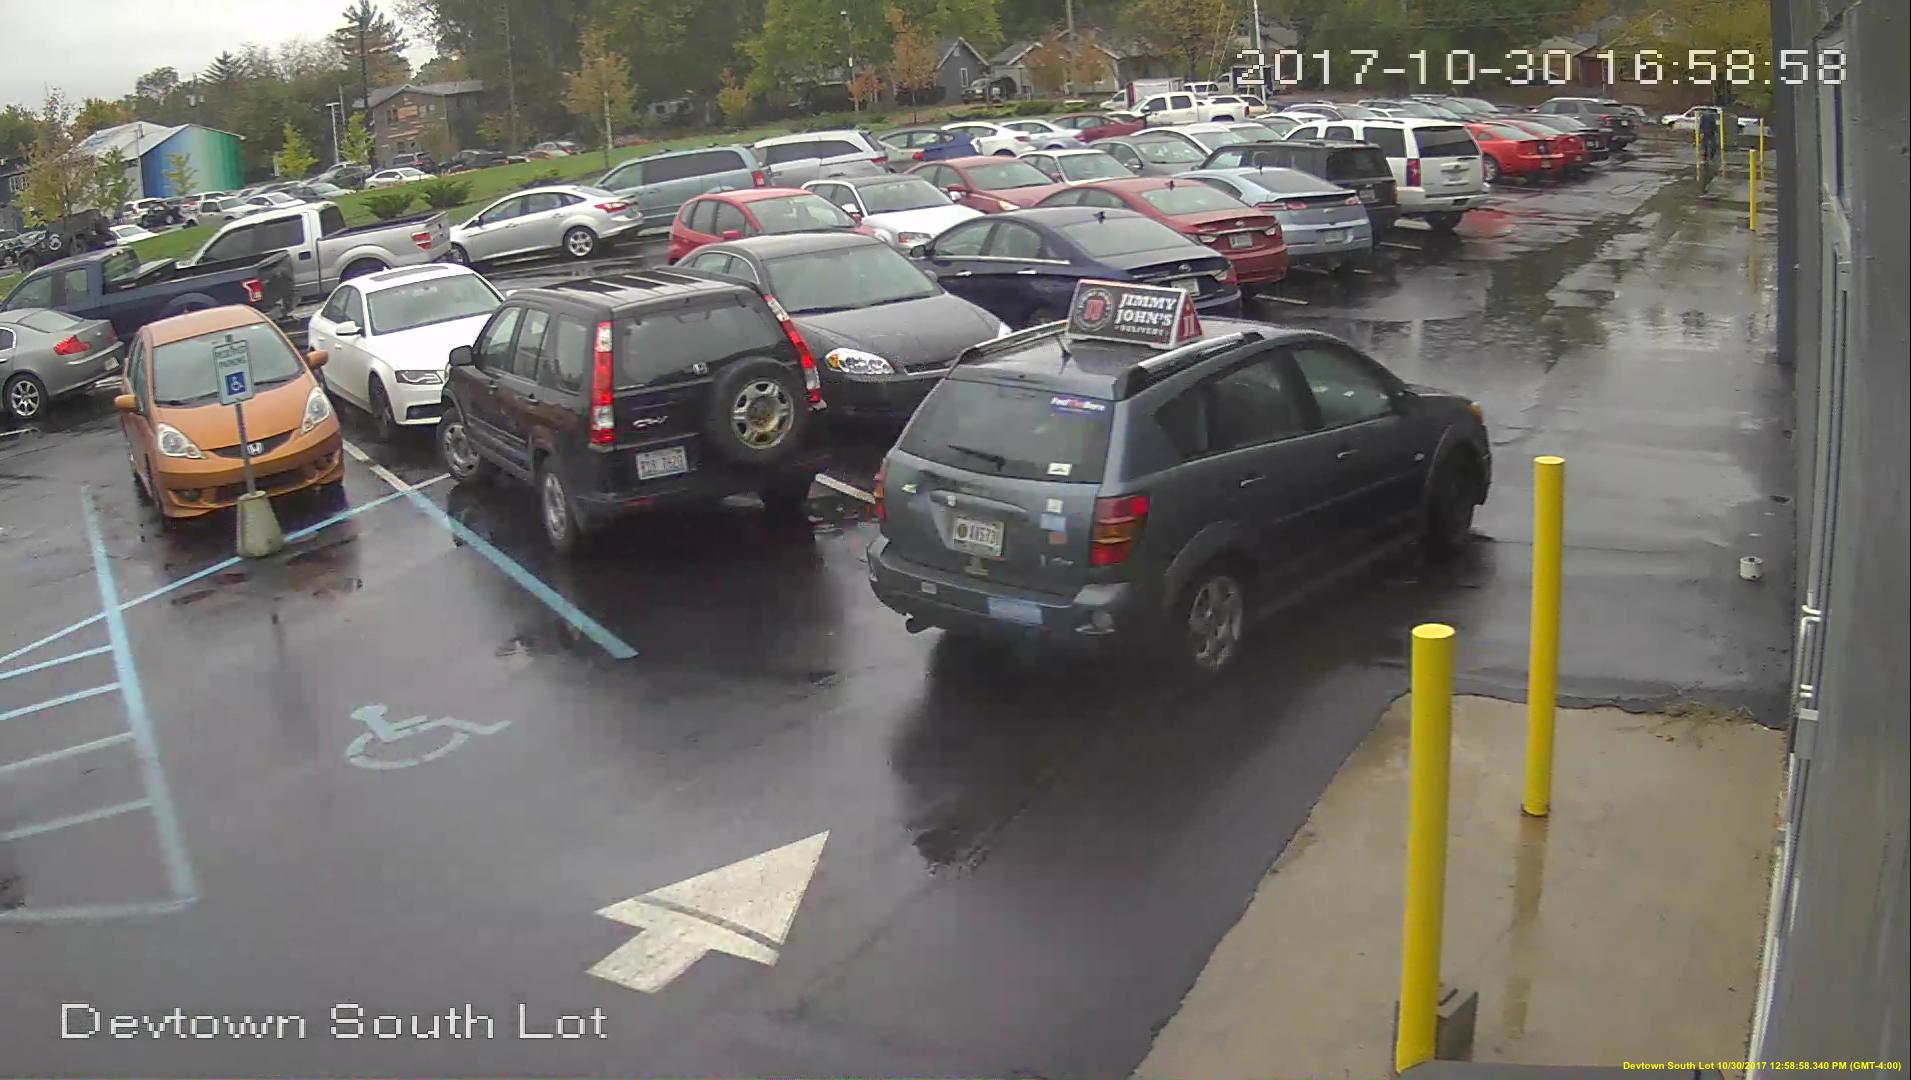jimmy_johns: (1066, 277, 1205, 349)
